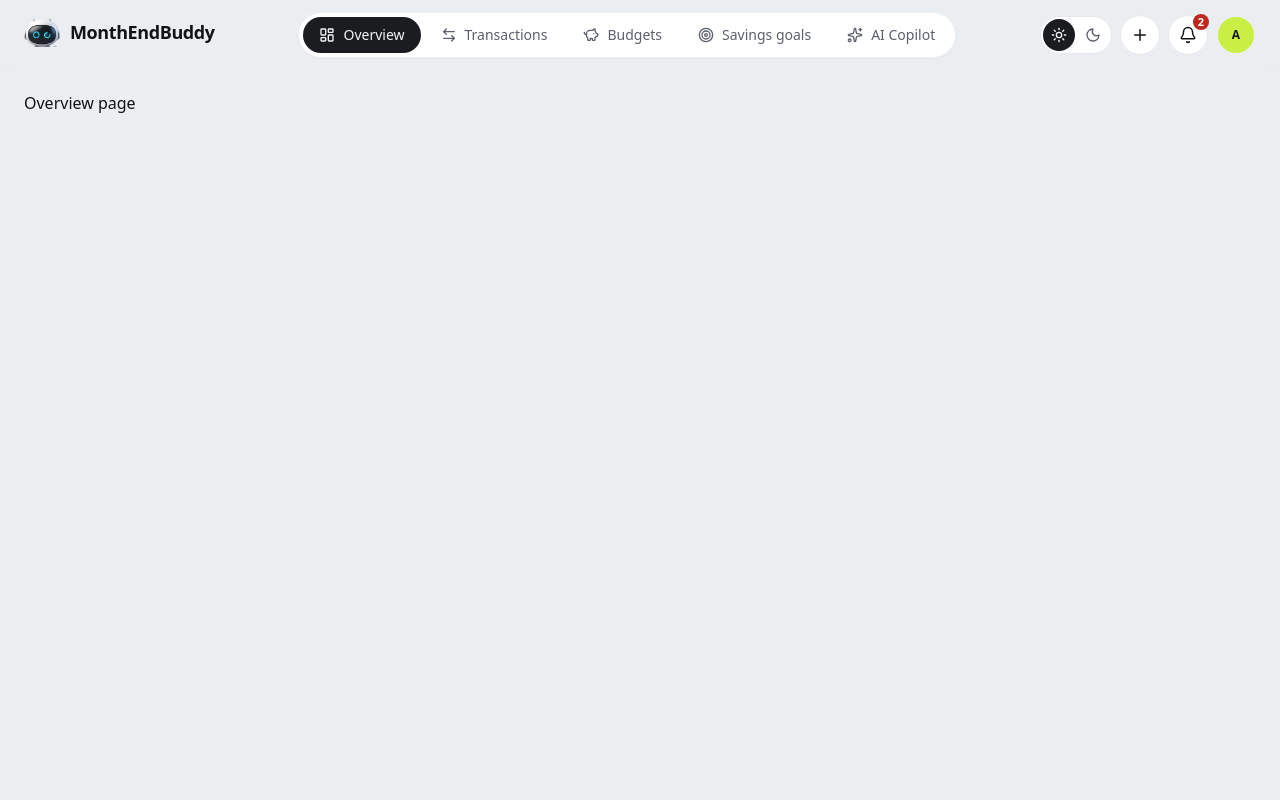
Test: AppShell › counts unread notifications on the bell and lists them all in its panel
The width and height of the screenshot is (1280, 800).
Click the button named "Notifications, 2 unread": (1188, 35) [1168, 15, 1208, 55]
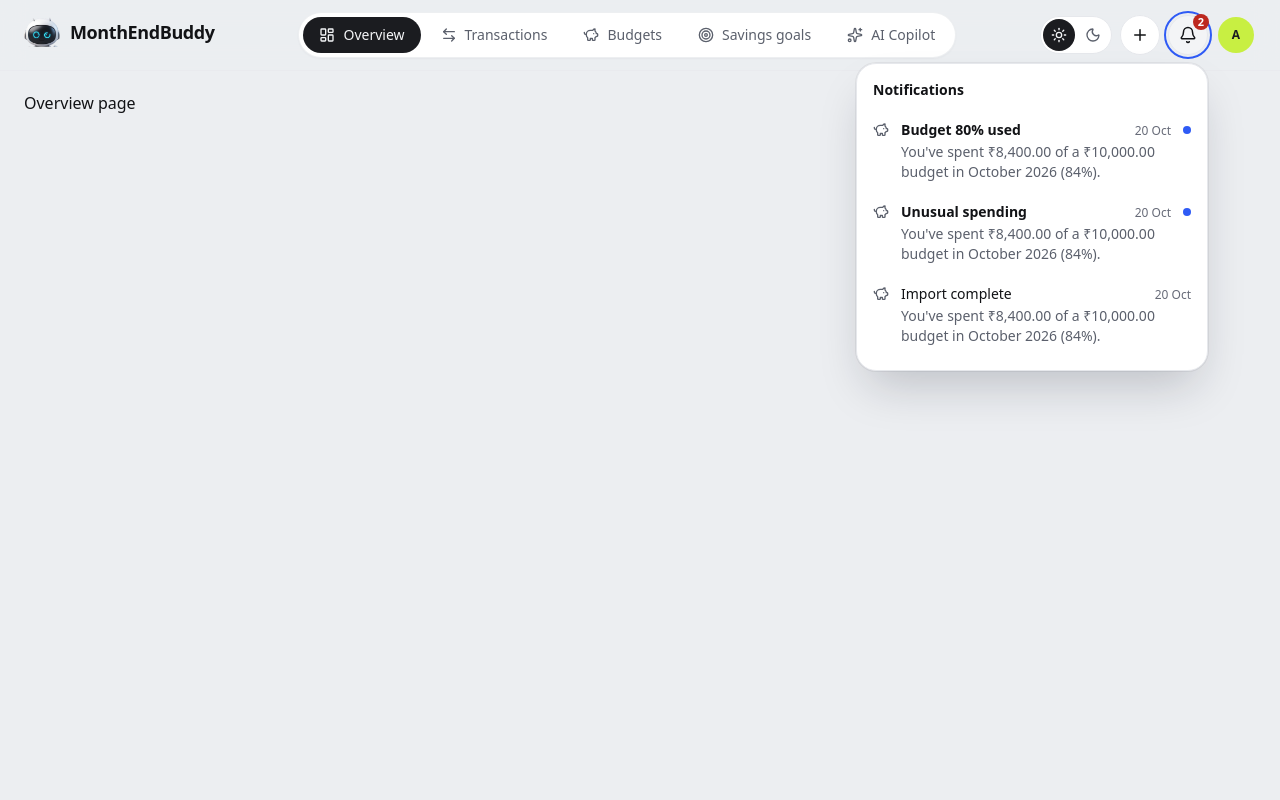
Check: the link "Import complete" does not show "(unread)", box [869, 276, 1195, 354]
Check: the link named "Budget 80% used (unread)" is shown, box [869, 112, 1195, 190]
Check: the button named "Notifications, 2 unread" is expanded, box [1168, 15, 1208, 55]
